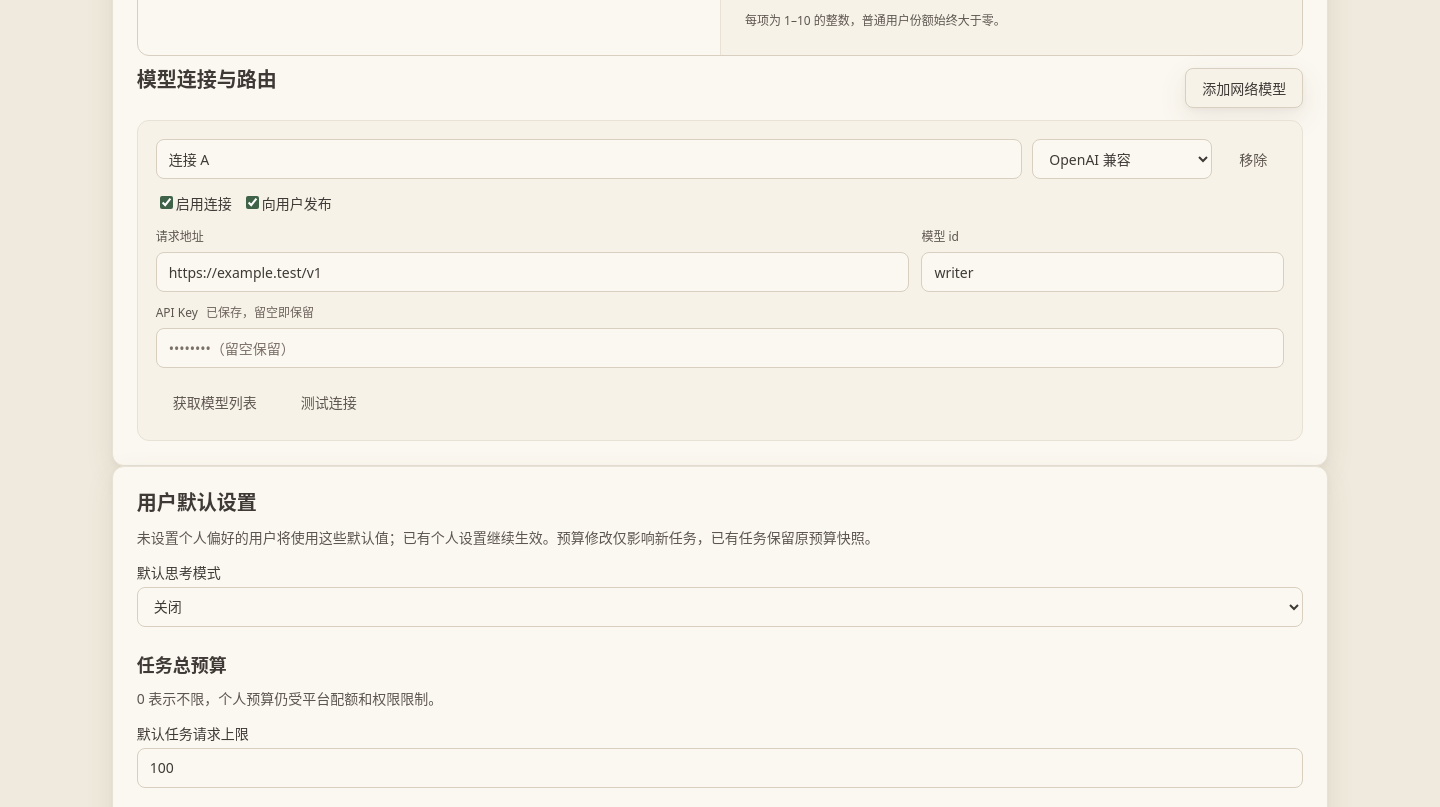
Test: reports models failures visibly without resubmitting on close
The width and height of the screenshot is (1440, 807).
(page scrolled)
Expected: the field showing "连接 A" is shown, [156, 139, 1022, 179]
What coordinates should you click on to do the following:
click the button "获取模型列表"
I would click on:
 (215, 402)
Its box is [156, 382, 274, 422].
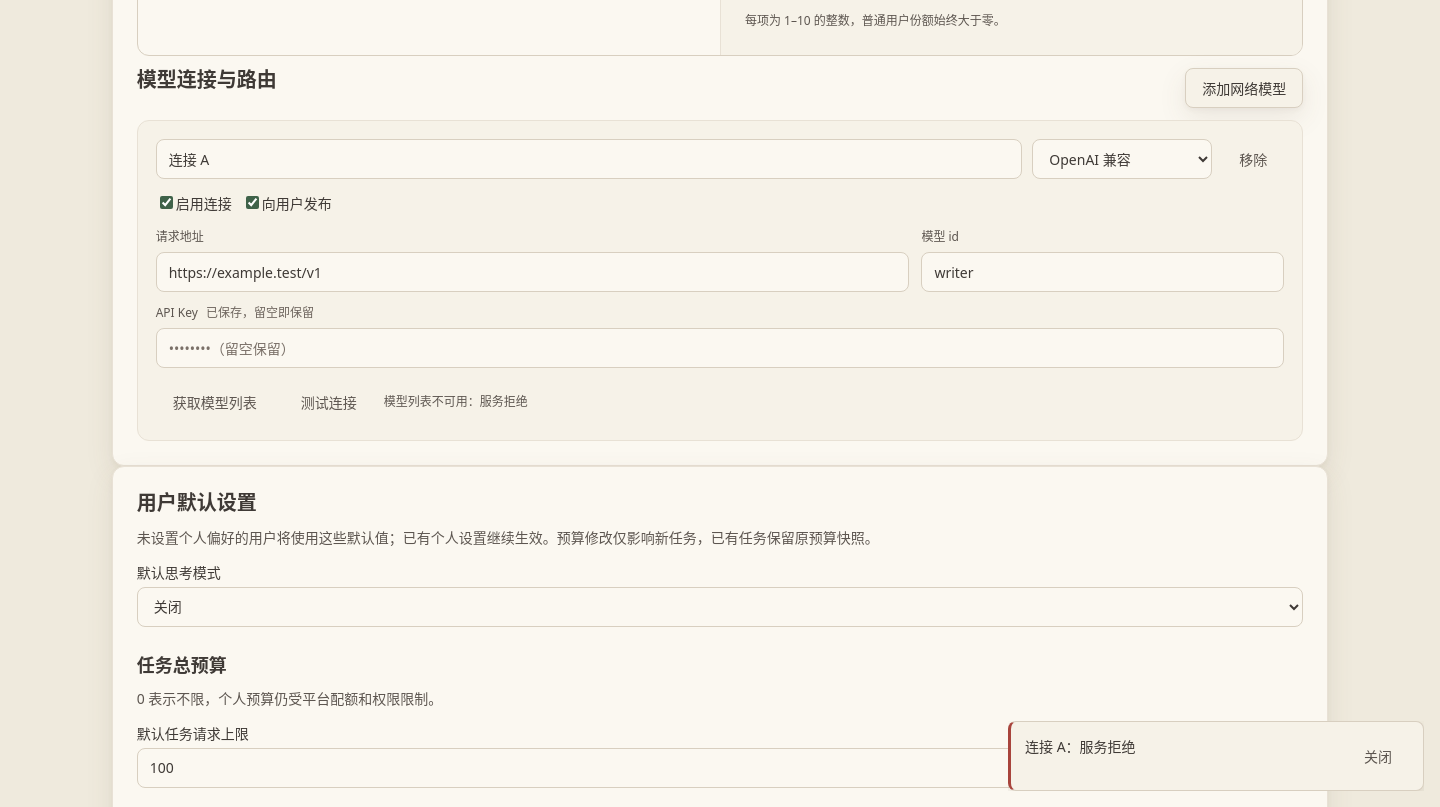
Expected: the message shows "服务拒绝", [1025, 737, 1136, 756]
What coordinates should you click on to do the following:
click the button with aria-label "关闭通知"
I would click on:
 (1378, 756)
Its box is [1347, 736, 1409, 776].
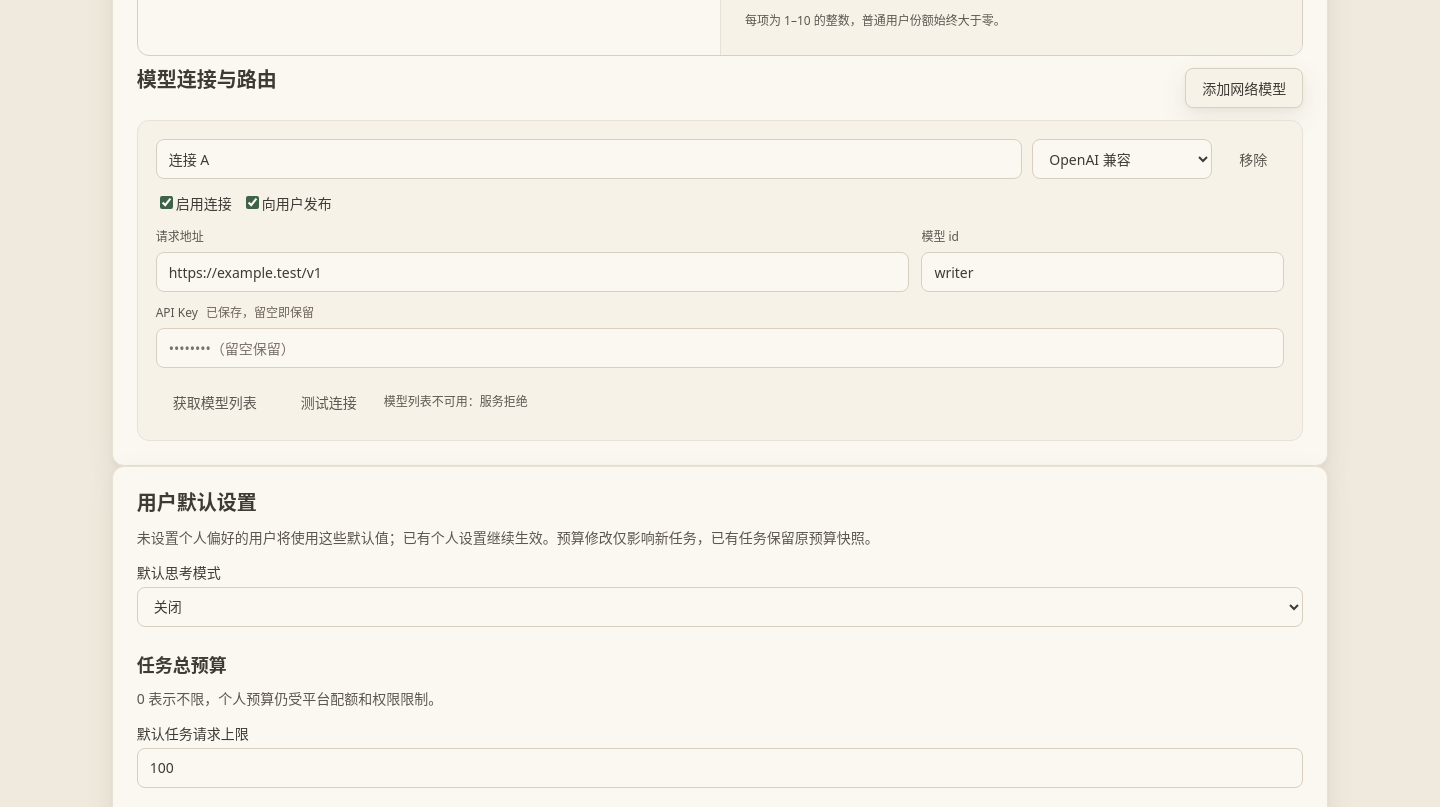
Expected: the message "连接 A：服务拒绝" is gone
